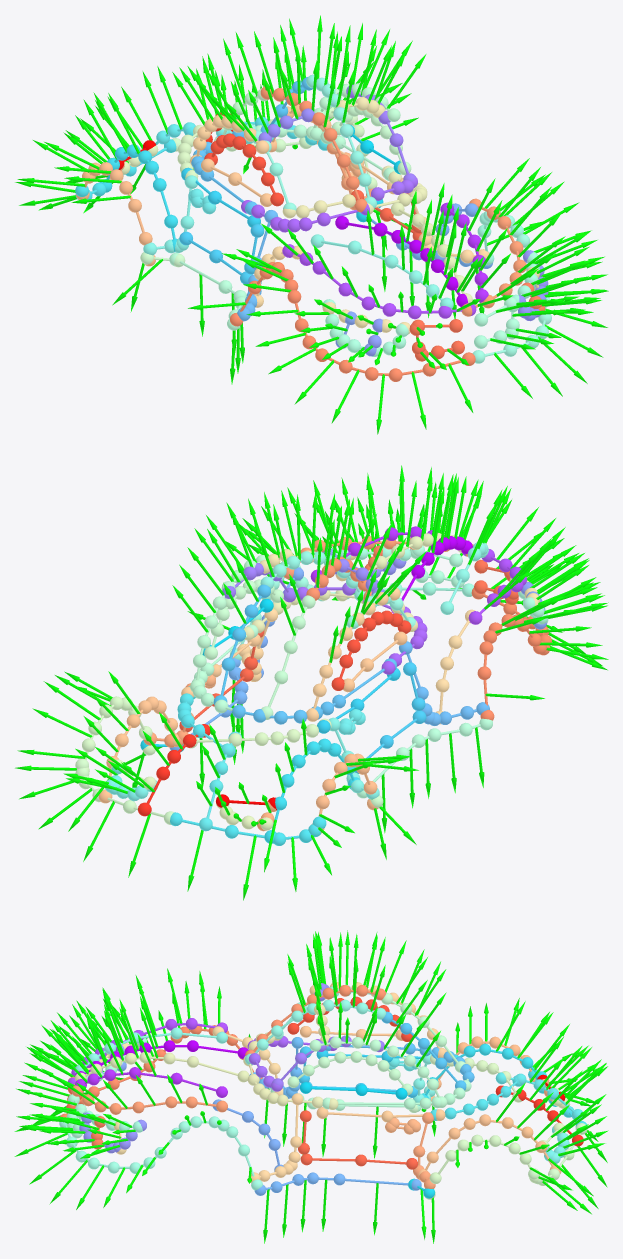
The model's file is author1_car.gltf.
3 renders of one model, top to bottom at view 1: azimuth 30°, elevation 25°; view 2: azimuth 150°, elevation 25°; view 3: azimuth 270°, elevation 25°, orthographic. The views are drawn at different scales.
Bounding box in the file's own units: 0.5967 × 0.4669 × 0.9969.
